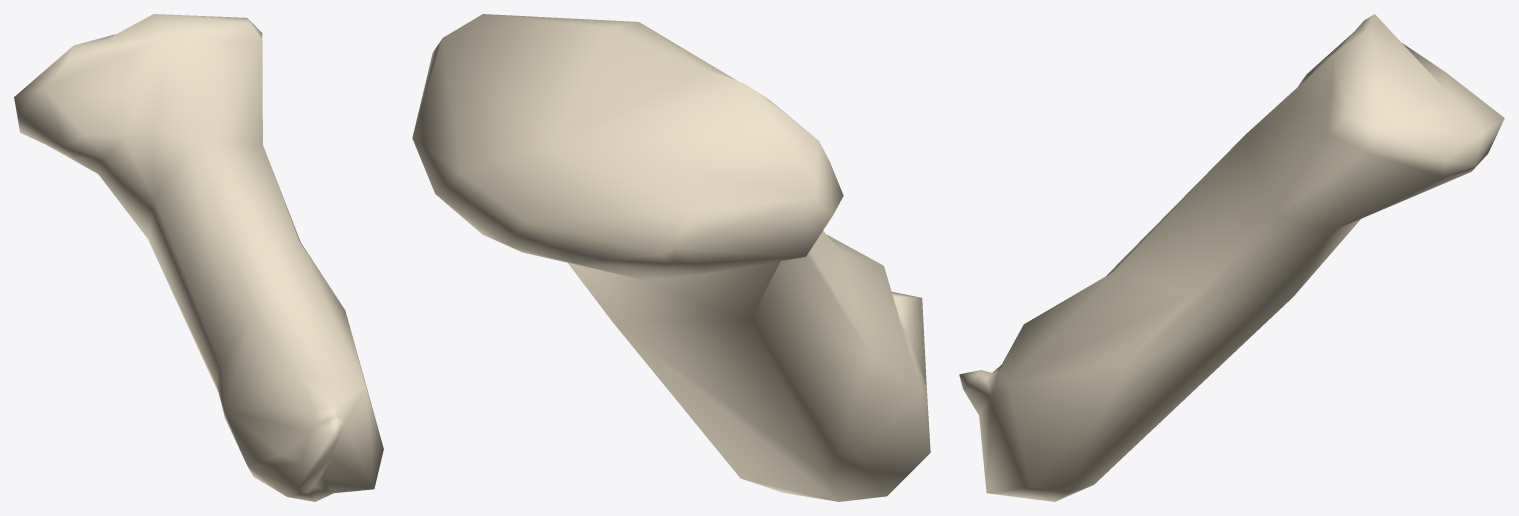
File: distal-phalanx-of-fifth-finger-of-hand-r.glb
The picture shows the model from 3 angles, left to right: view 1: azimuth 30°, elevation 25°; view 2: azimuth 150°, elevation 25°; view 3: azimuth 270°, elevation 25°; orthographic projection. The views are drawn at different scales.
Parts seen in each view (by area): view 1: Distal phalanx of fifth finger of hand.r; view 2: Distal phalanx of fifth finger of hand.r; view 3: Distal phalanx of fifth finger of hand.r.
Part boxes in pixels (x1,y1,x2,y2): Distal phalanx of fifth finger of hand.r: (14,14,383,501); Distal phalanx of fifth finger of hand.r: (412,14,930,501); Distal phalanx of fifth finger of hand.r: (959,14,1504,501).
Bounding box in the file's own units: 0.00858 × 0.0131 × 0.0148.
